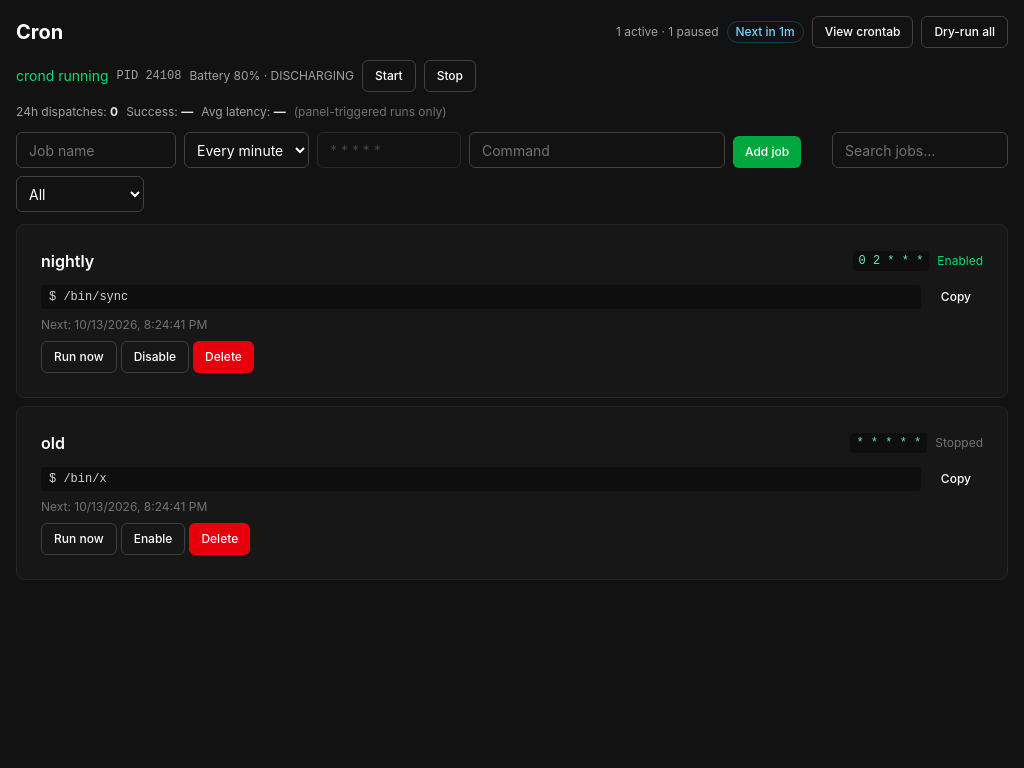
Test: web cron page › uses presets and unlocks custom input
Expected: the field with placeholder "* * * * *" is disabled, left=317, top=132, right=461, bottom=168
Select "Custom…" in the dropdown named "Schedule preset" at (246, 150), box left=184, top=132, right=309, bottom=168
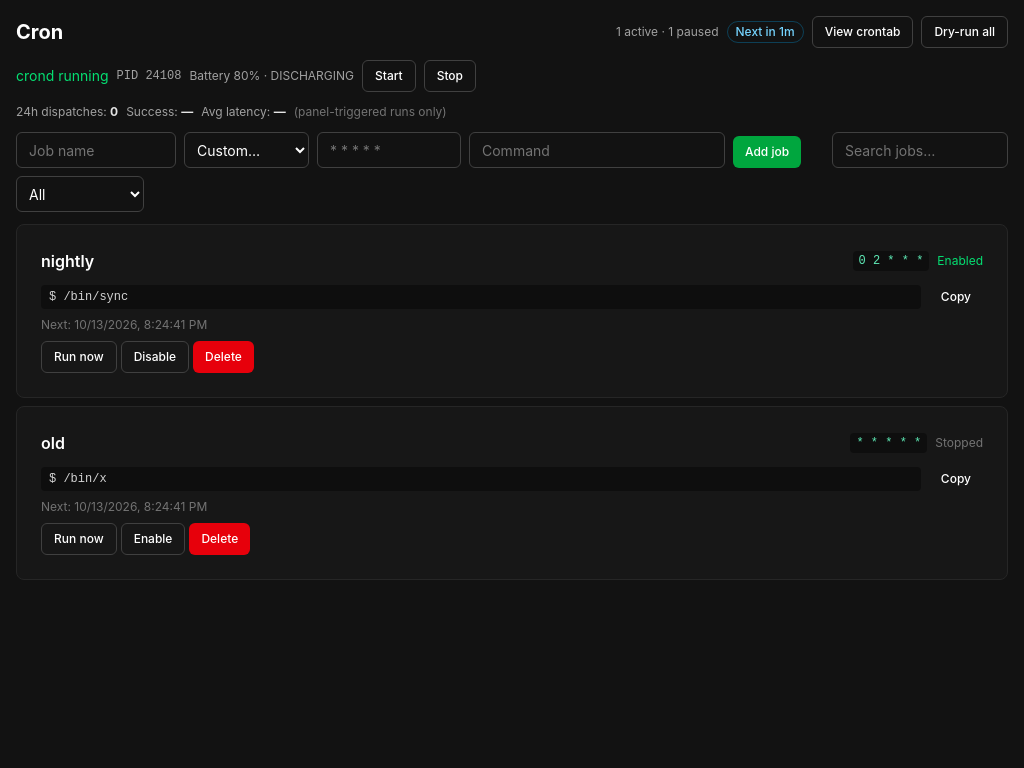
Now the field with placeholder "* * * * *" is enabled, box left=317, top=132, right=461, bottom=168
